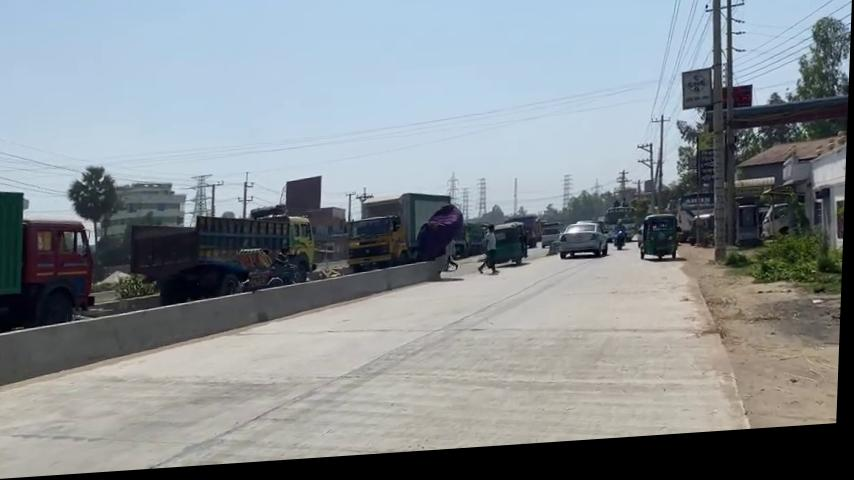Bollard: (556, 220, 624, 276)
Construction-barrier: (417, 208, 465, 267)
Fence: (479, 229, 504, 282)
Garbage: (669, 0, 758, 275), (703, 0, 738, 274)
Obstacle: (0, 257, 453, 391)
Rickshaw: (129, 210, 320, 310), (0, 184, 100, 334), (347, 196, 455, 277)
